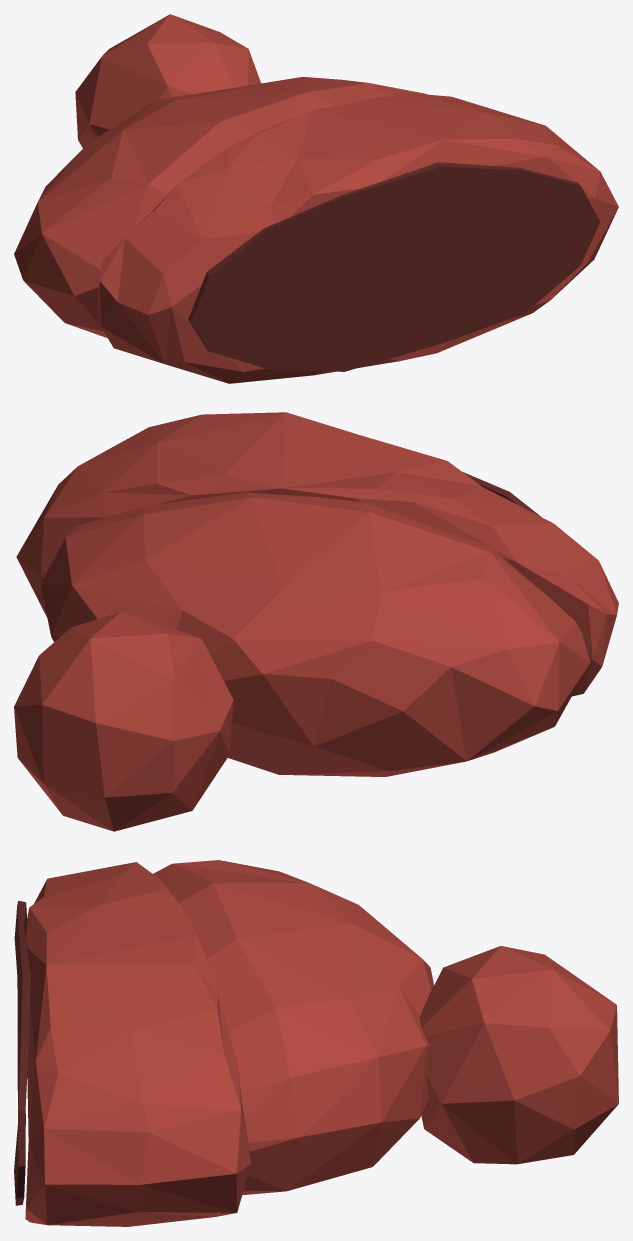
The model's file is beanie_dropped.glb.
3 views of the same model, one above another, from view 1: azimuth 30°, elevation 25°; view 2: azimuth 150°, elevation 25°; view 3: azimuth 270°, elevation 25° (orthographic). The views are drawn at different scales.
Visible parts, largest first — view 1: Beanie_Inside, Beanie_Cuff, Beanie_Crown, Beanie_Pompom; view 2: Beanie_Crown, Beanie_Cuff, Beanie_Pompom; view 3: Beanie_Cuff, Beanie_Crown, Beanie_Pompom, Beanie_Inside.
Boxes of the visible parts, box(x1,y1,x2,y2) form: Beanie_Inside: box(188, 162, 600, 371); Beanie_Cuff: box(97, 93, 618, 383); Beanie_Crown: box(14, 77, 426, 337); Beanie_Pompom: box(75, 14, 261, 148); Beanie_Crown: box(40, 492, 590, 776); Beanie_Cuff: box(16, 412, 618, 696); Beanie_Pompom: box(14, 611, 233, 831); Beanie_Cuff: box(25, 862, 250, 1226); Beanie_Crown: box(153, 860, 433, 1195); Beanie_Pompom: box(419, 946, 618, 1164); Beanie_Inside: box(14, 900, 30, 1205).
Size of the model in its own units: 0.2778 by 0.1081 by 0.2546.
